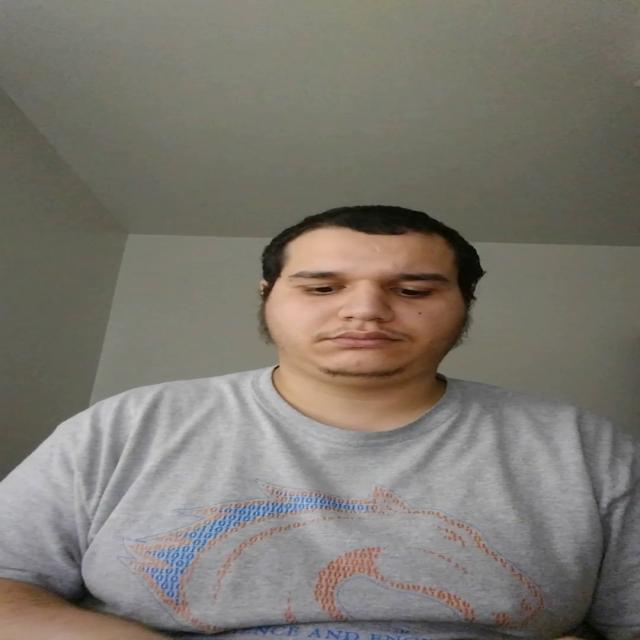sem_oculos: (264, 264, 486, 304)
